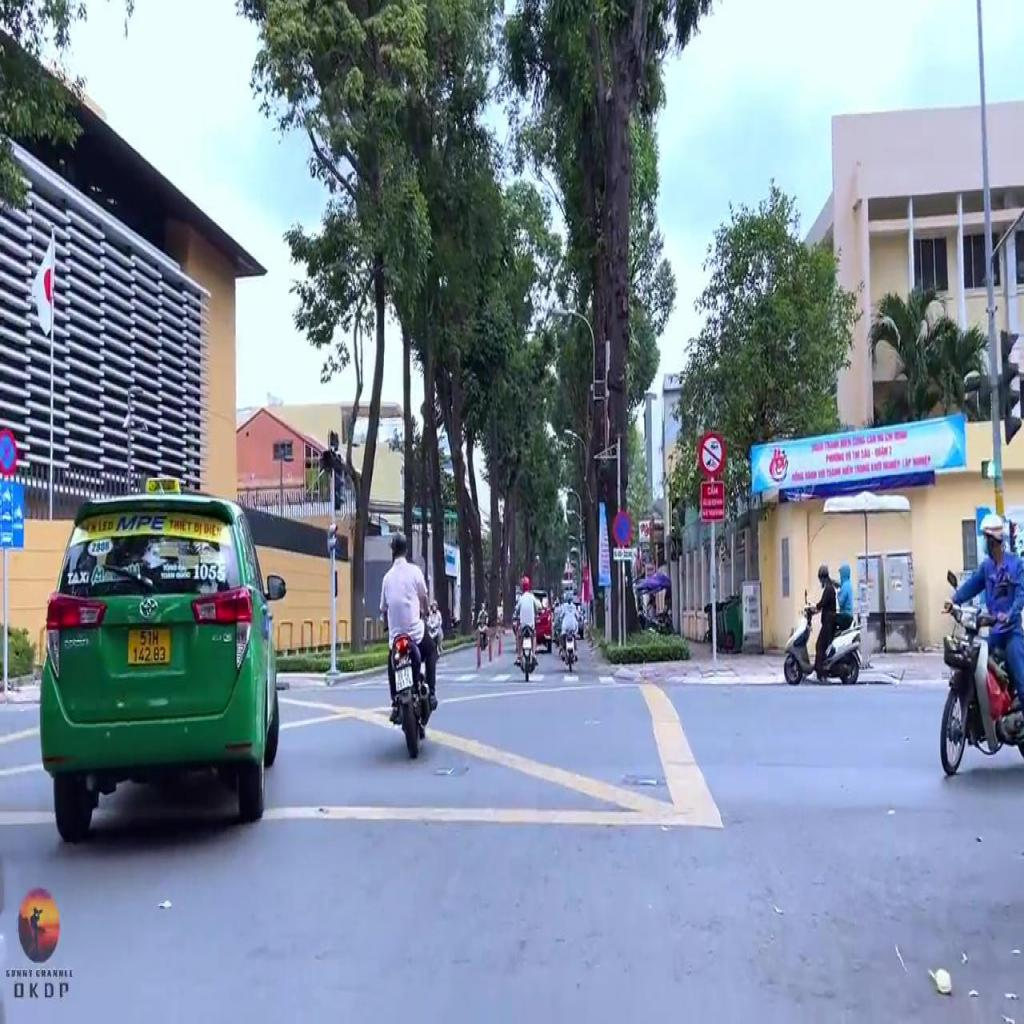cam_cac_loai_xe_3_banh: (698, 431, 728, 478)
cam_do_xe: (614, 509, 632, 546)
khac: (612, 549, 634, 560)
